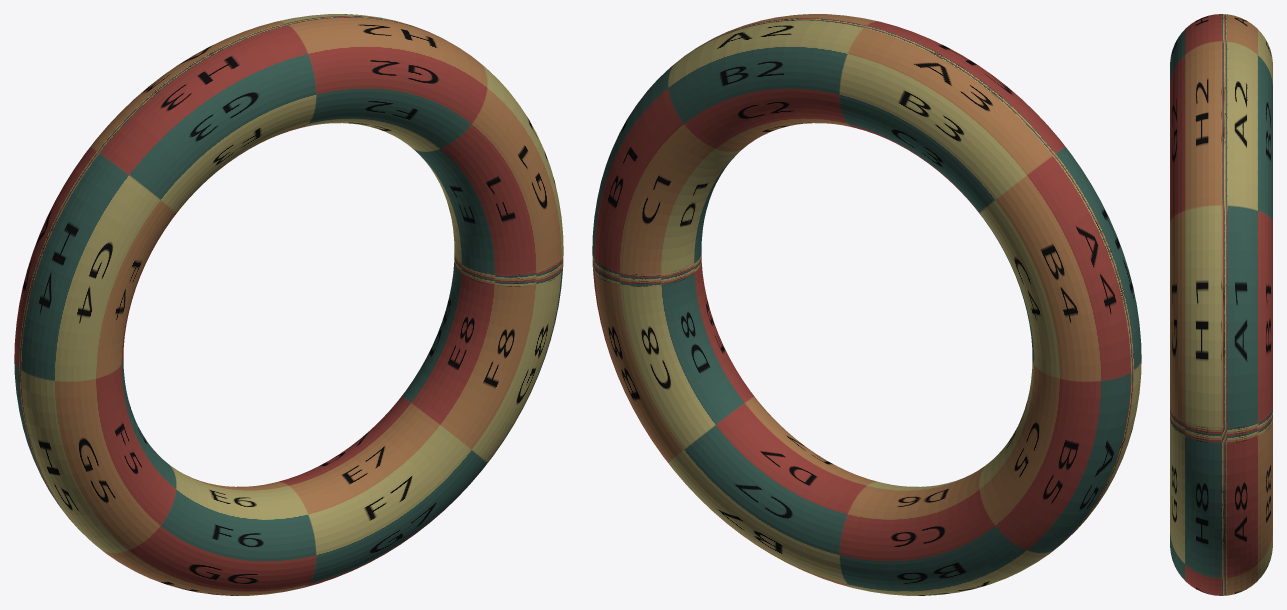
File: texture_torus_R9_r5.glb
The picture shows the model from 3 angles, left to right: view 1: azimuth 30°, elevation 25°; view 2: azimuth 150°, elevation 25°; view 3: azimuth 270°, elevation 25°; orthographic projection. The views are drawn at different scales.
Visible parts, largest first — view 1: world; view 2: world; view 3: world.
Part boxes in pixels (left/top/right/bottom): world: left=14, top=14, right=563, bottom=595; world: left=592, top=14, right=1141, bottom=595; world: left=1170, top=14, right=1272, bottom=595.
Size of the model in its own units: 36.44 by 36.44 by 6.43.
Materials: 1 (1 with a texture image).
